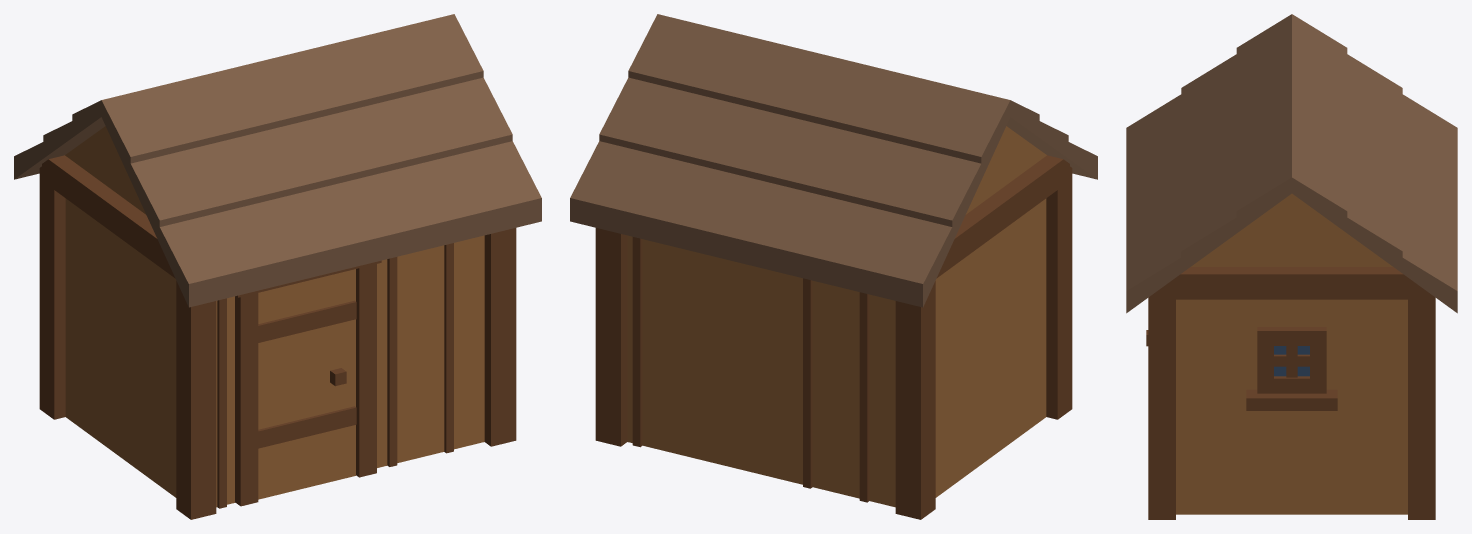
File: shed-pixor.glb
3 views of the same model, side by side, from view 1: azimuth 30°, elevation 25°; view 2: azimuth 150°, elevation 25°; view 3: azimuth 270°, elevation 25° (orthographic). The views are drawn at different scales.
Parts seen in each view (by area): view 1: Shed roof, Shed walls, Shed timbers, Shed door, Shed door frame, Shed battens; view 2: Shed roof, Shed walls, Shed timbers, Shed battens; view 3: Shed roof, Shed walls, Shed timbers, Shed window frames, Shed windows.
Part boxes in pixels (x1,y1,x2,y2): Shed roof: [14, 14, 541, 307]; Shed walls: [65, 126, 484, 507]; Shed timbers: [39, 155, 516, 519]; Shed door: [258, 269, 355, 499]; Shed door frame: [235, 260, 381, 506]; Shed battens: [217, 243, 453, 508]; Shed roof: [570, 14, 1097, 307]; Shed walls: [627, 126, 1046, 507]; Shed timbers: [595, 155, 1072, 519]; Shed battens: [632, 237, 869, 502]; Shed roof: [1126, 14, 1457, 313]; Shed walls: [1176, 193, 1407, 514]; Shed timbers: [1148, 267, 1435, 519]; Shed window frames: [1246, 327, 1337, 410]; Shed windows: [1274, 346, 1309, 376].
Size of the model in its own units: 2.8 by 2.79 by 2.4.
